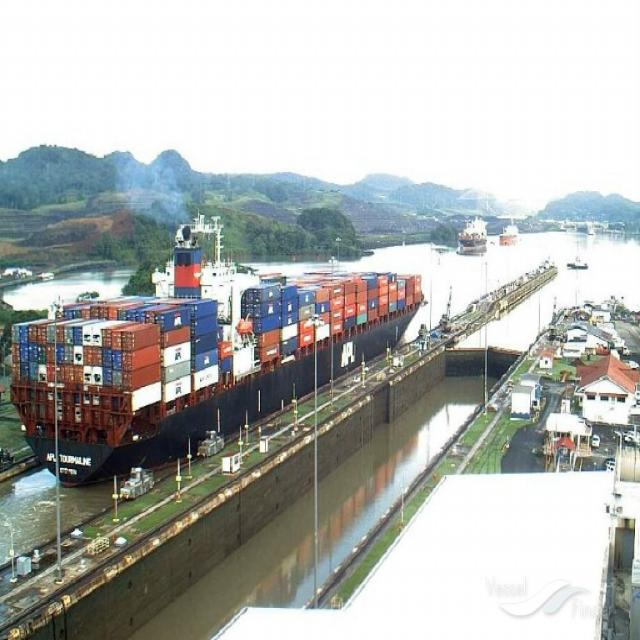Container Ship: (10, 259, 428, 488)
